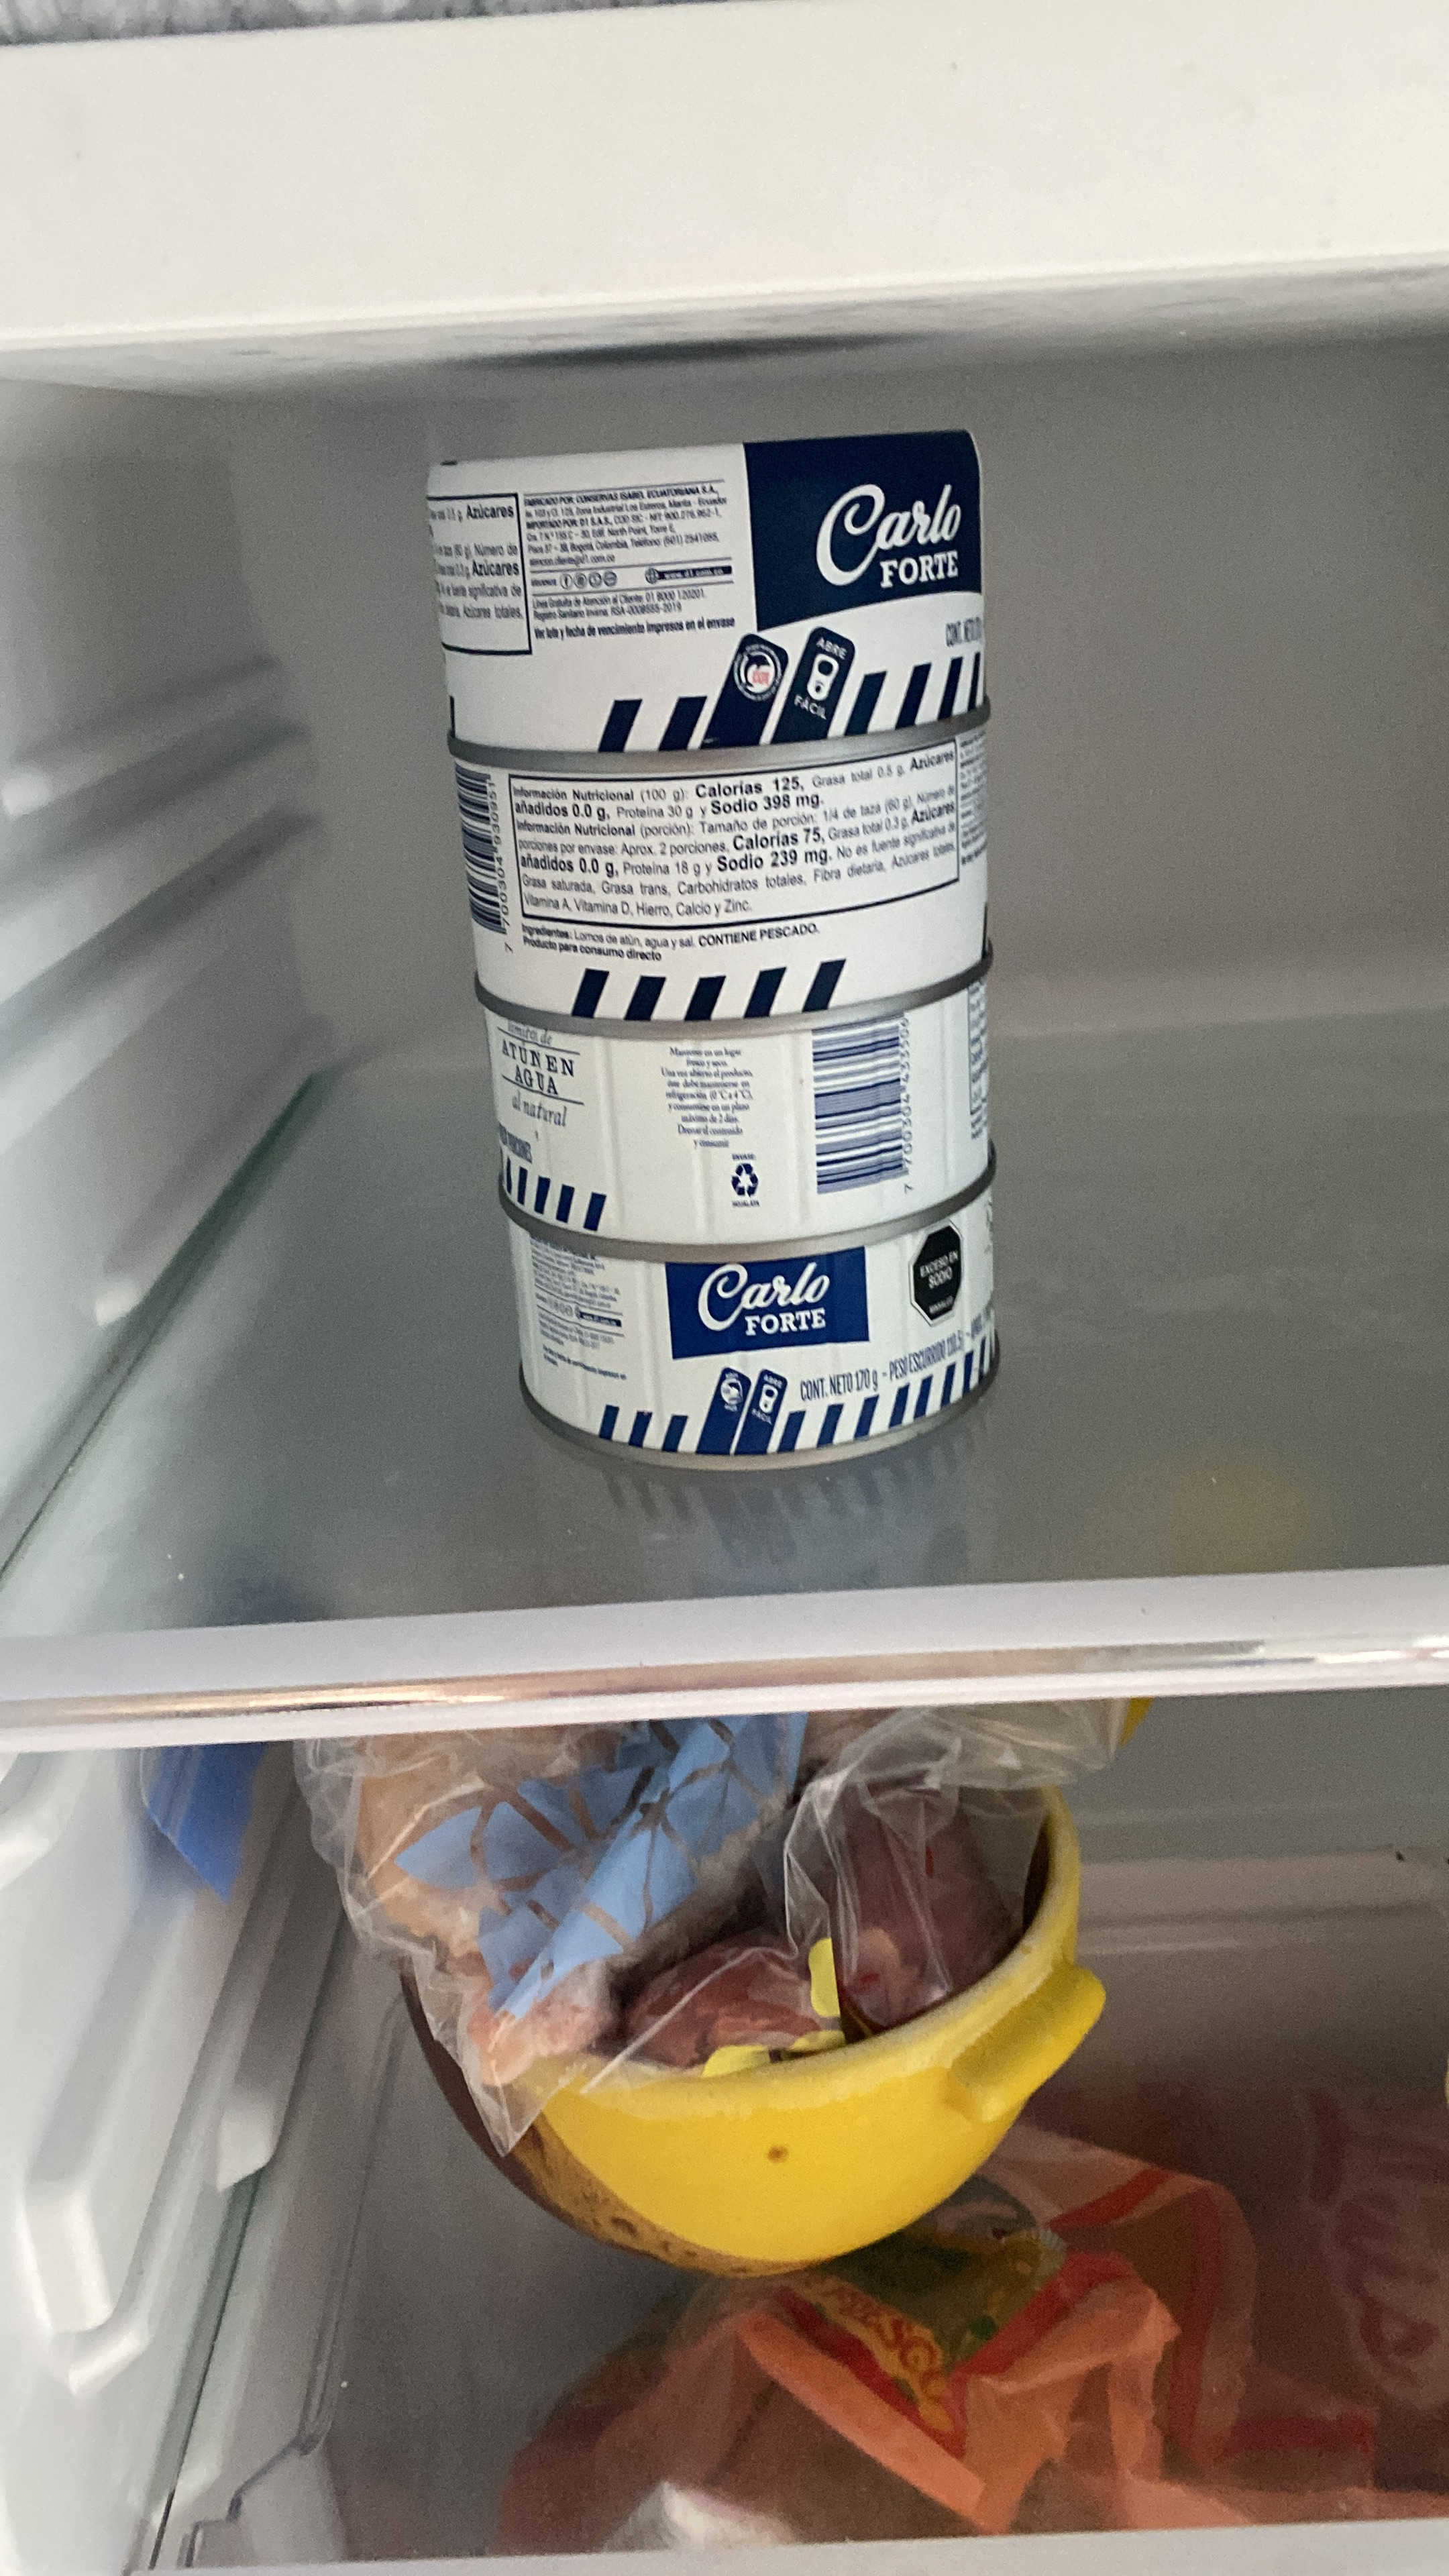Atun: (386, 426, 1014, 763), (433, 731, 1007, 1019), (479, 989, 1010, 1244), (490, 1223, 1007, 1479)
